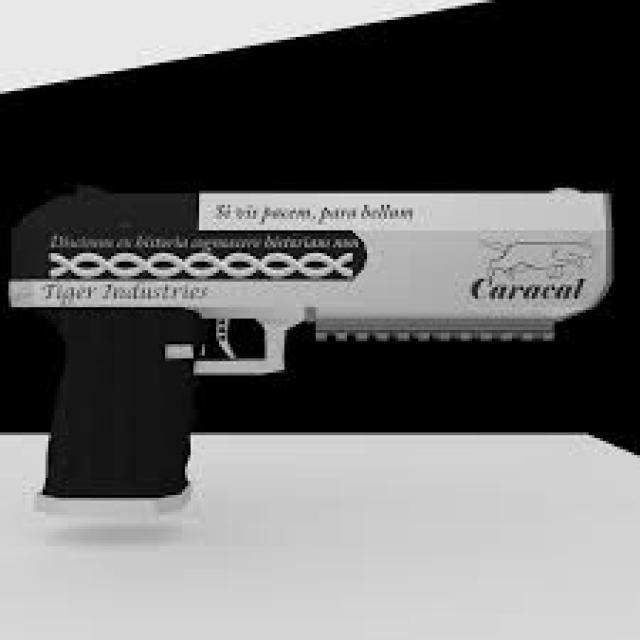Gun: (8, 159, 640, 509)
